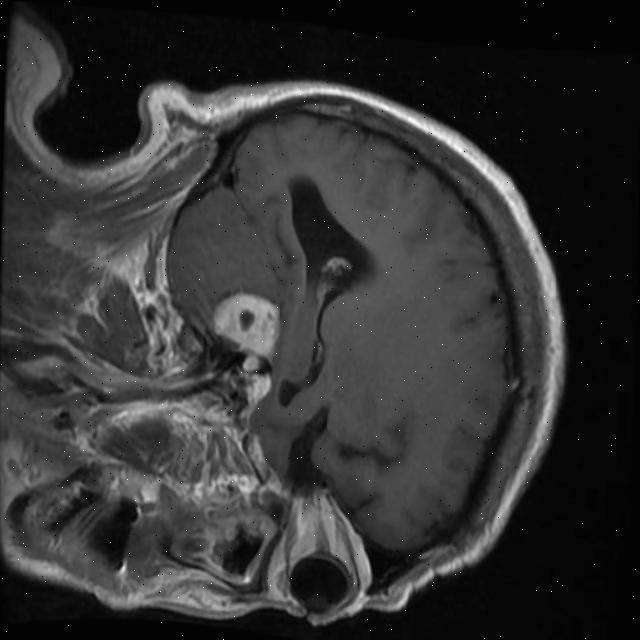Meningioma: (205, 287, 282, 360)
